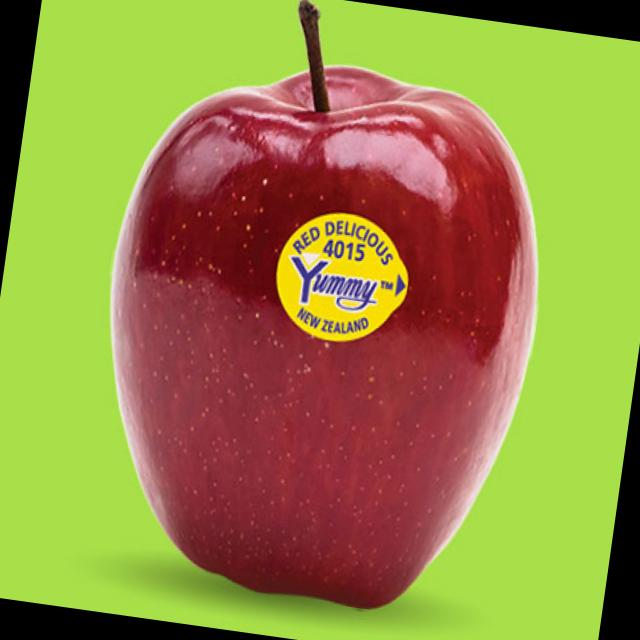apple: (70, 37, 563, 640)
